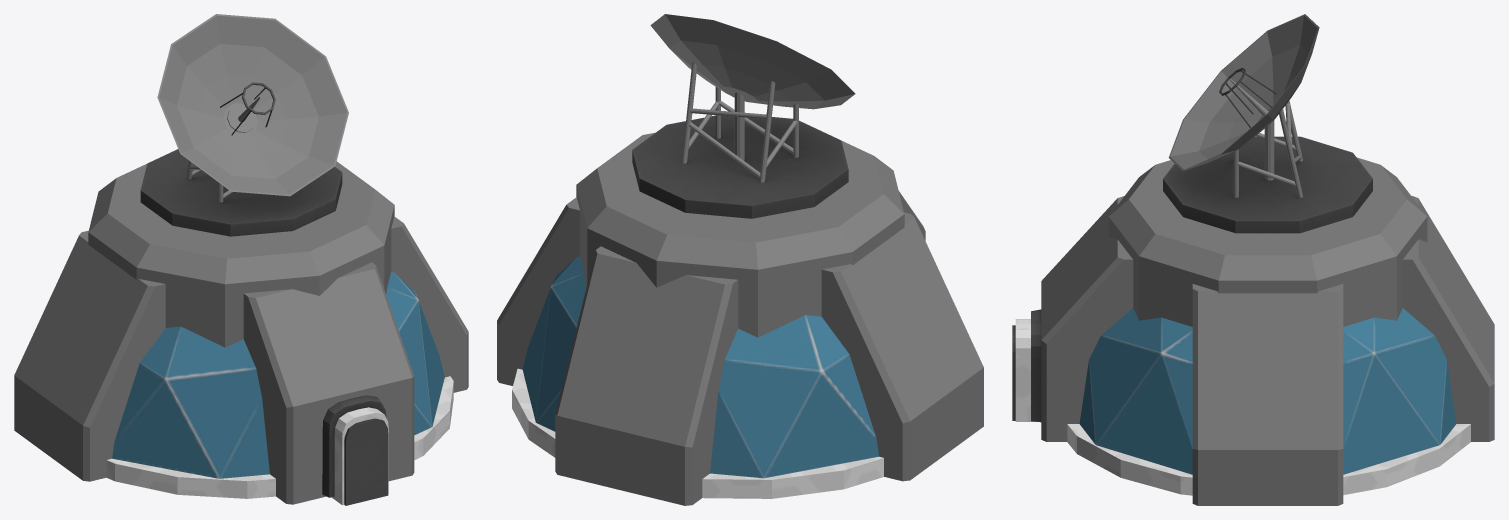
Rendered from low_poly_antenna_habitat.glb.
The picture shows the model from 3 angles, left to right: view 1: azimuth 30°, elevation 25°; view 2: azimuth 150°, elevation 25°; view 3: azimuth 270°, elevation 25°; orthographic projection. The views are drawn at different scales.
Parts seen in each view (by area): view 1: Circle.001, Cube.004, Cylinder, Cube.003, Icosphere, Cylinder.002, Circle, Cube.001, Cube.012, Cube.037, Cube; view 2: Cube.002, Cylinder, Icosphere, Cube.003, Cylinder.002, Circle.001, Circle, Cube.001, Cylinder.004, Cylinder.003, Cylinder.005; view 3: Cube.001, Icosphere, Cylinder, Cylinder.002, Cube.004, Cube.002, Circle.001, Circle, Cube, Cube.037, Cylinder.004, Cylinder.003.
Boxes of the visible parts, left/top/right/bottom form: Circle.001: left=157, top=14, right=348, bottom=196; Cube.004: left=243, top=262, right=414, bottom=504; Cylinder: left=88, top=161, right=394, bottom=347; Cube.003: left=14, top=230, right=165, bottom=481; Icosphere: left=112, top=271, right=444, bottom=478; Cylinder.002: left=140, top=149, right=342, bottom=236; Circle: left=106, top=376, right=453, bottom=498; Cube.001: left=391, top=216, right=468, bottom=392; Cube.012: left=344, top=418, right=388, bottom=505; Cube.037: left=322, top=395, right=386, bottom=497; Cube: left=332, top=407, right=388, bottom=505; Cube.002: left=555, top=246, right=738, bottom=505; Cylinder: left=576, top=132, right=904, bottom=337; Icosphere: left=522, top=256, right=878, bottom=478; Cube.003: left=821, top=212, right=983, bottom=481; Cylinder.002: left=632, top=115, right=848, bottom=218; Circle.001: left=650, top=14, right=855, bottom=109; Circle: left=512, top=368, right=883, bottom=498; Cube.001: left=497, top=197, right=579, bottom=385; Cylinder.004: left=681, top=62, right=775, bottom=182; Cylinder.003: left=734, top=92, right=744, bottom=161; Cylinder.005: left=715, top=87, right=798, bottom=157; Cube.001: left=1192, top=284, right=1343, bottom=505; Icosphere: left=1079, top=308, right=1456, bottom=474; Cylinder: left=1108, top=157, right=1427, bottom=326; Cylinder.002: left=1163, top=136, right=1372, bottom=233; Cube.004: left=1041, top=196, right=1133, bottom=441; Cube.002: left=1403, top=196, right=1494, bottom=441; Circle.001: left=1168, top=14, right=1319, bottom=170; Circle: left=1067, top=424, right=1470, bottom=495; Cube: left=1015, top=319, right=1035, bottom=421; Cube.037: left=1031, top=309, right=1041, bottom=422; Cylinder.004: left=1279, top=100, right=1303, bottom=197; Cylinder.003: left=1264, top=120, right=1274, bottom=180.
Size of the model in its own units: 2.19 by 2.04 by 2.33.
Materials: 1 (1 with a texture image).
